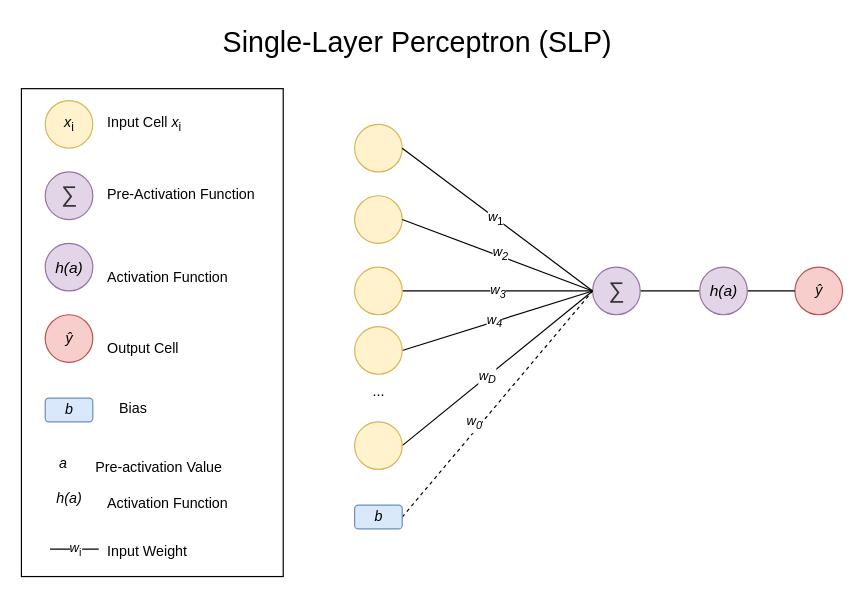
Image size: 863x597. Some labels were removed from this diagram. The centre of each missing label's shape, as x and y in pixels:
x 1: [377,147]
x 2: [377,219]
x 3: [377,290]
x 4: [377,349]
x D: [377,445]
